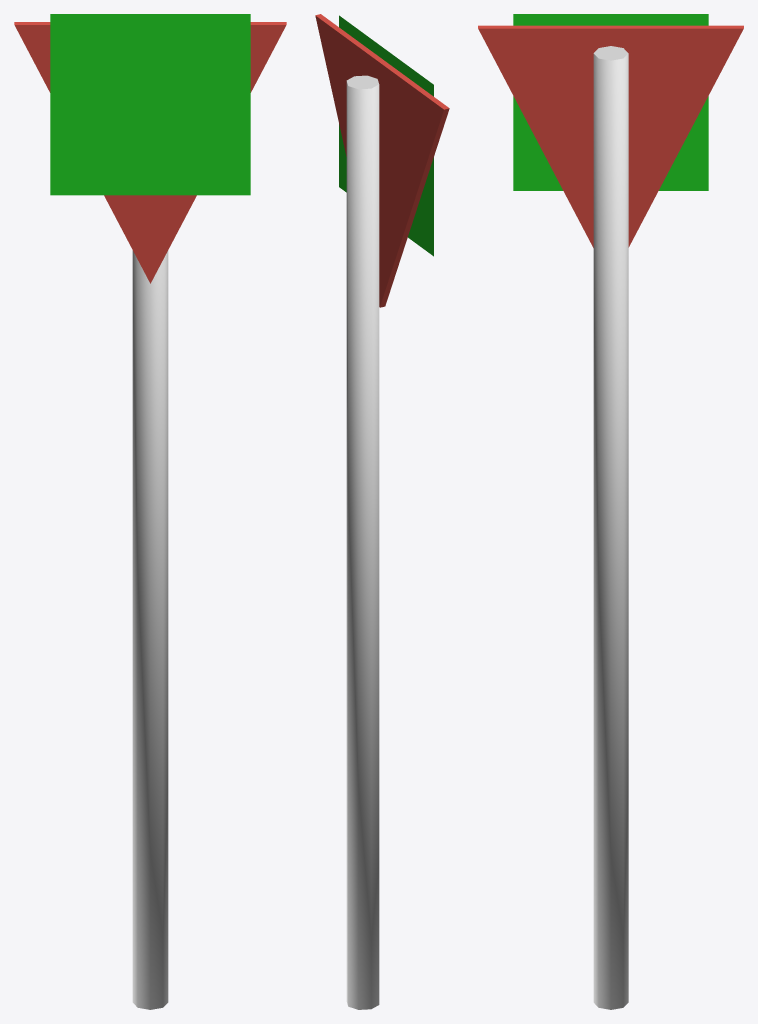
3 views of the same model, side by side, from view 1: azimuth 90°, elevation 25°; view 2: azimuth 210°, elevation 25°; view 3: azimuth 270°, elevation 25° (orthographic). The views are drawn at different scales.
Visible parts, largest first — view 1: Zs3; view 2: Zs3; view 3: Zs3.
Part boxes in pixels (bbox=[...]): Zs3: bbox=[14, 14, 286, 1009]; Zs3: bbox=[315, 14, 449, 1009]; Zs3: bbox=[478, 14, 743, 1009].
Size of the model in its own units: 0.1305 by 3.09 by 0.7613.
